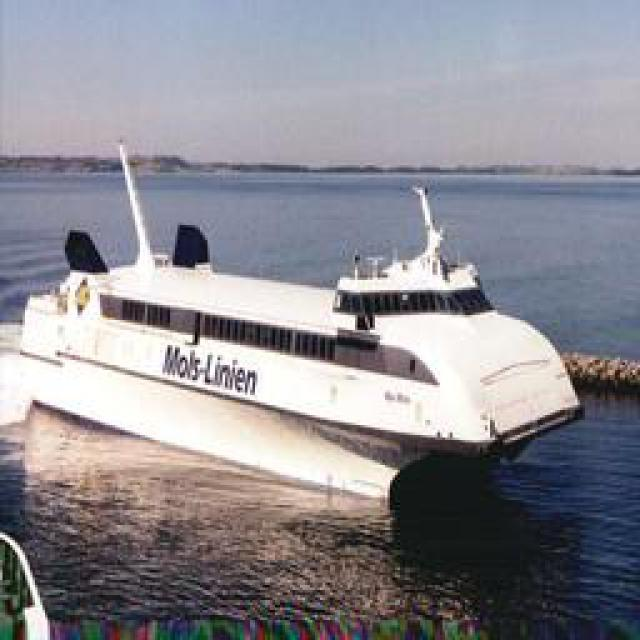Ship: (14, 137, 574, 477)
